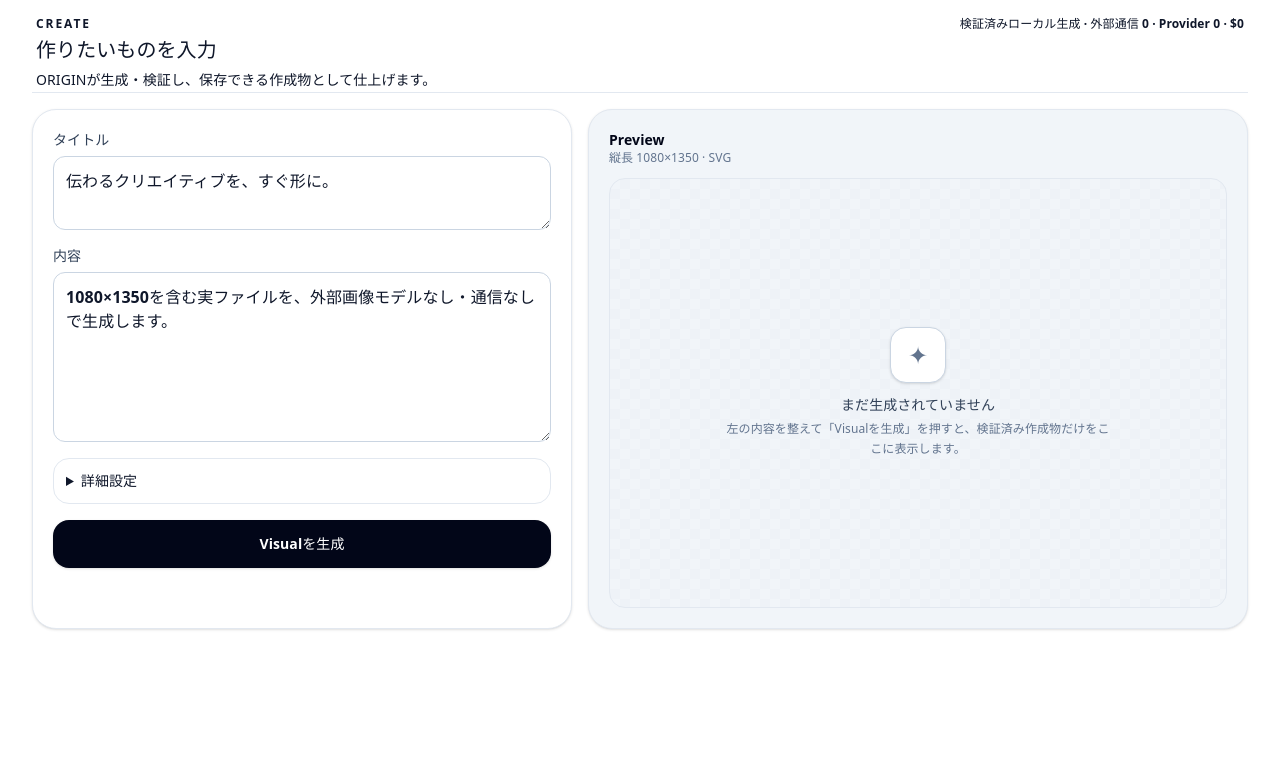
CreativeWorkspaceV15 › keeps verified SVG available if local PNG conversion fails
The width and height of the screenshot is (1280, 762).
Expected: the text "検証済みローカル生成 · 外部通信 0 · Provider 0 · $0" is shown, x1=960 y1=16 x2=1244 y2=32
Step 1. Click the button "Visualを生成" → (302, 544), box x1=53 y1=520 x2=551 y2=568
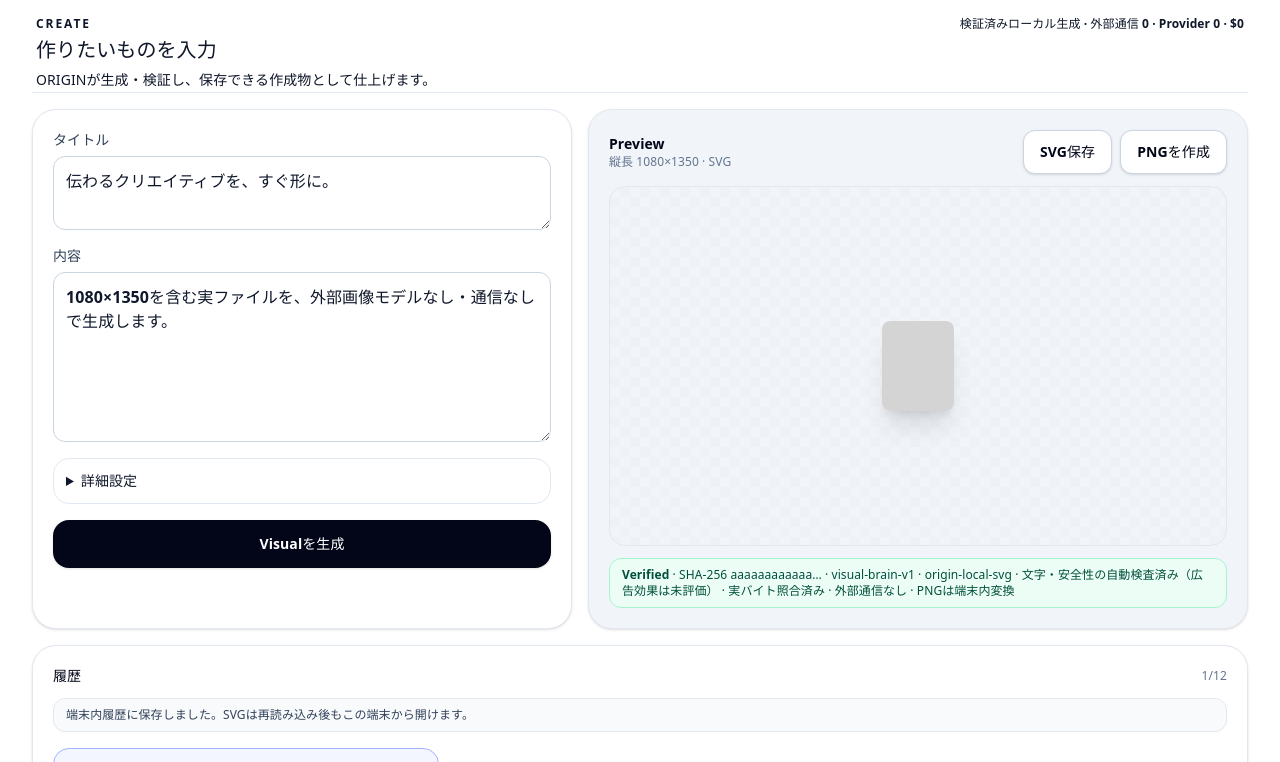
Now the link "SVG保存" is shown, box x1=1023 y1=130 x2=1112 y2=174
Step 2. Click the button "PNGを作成" → (1174, 152), box x1=1120 y1=130 x2=1227 y2=174
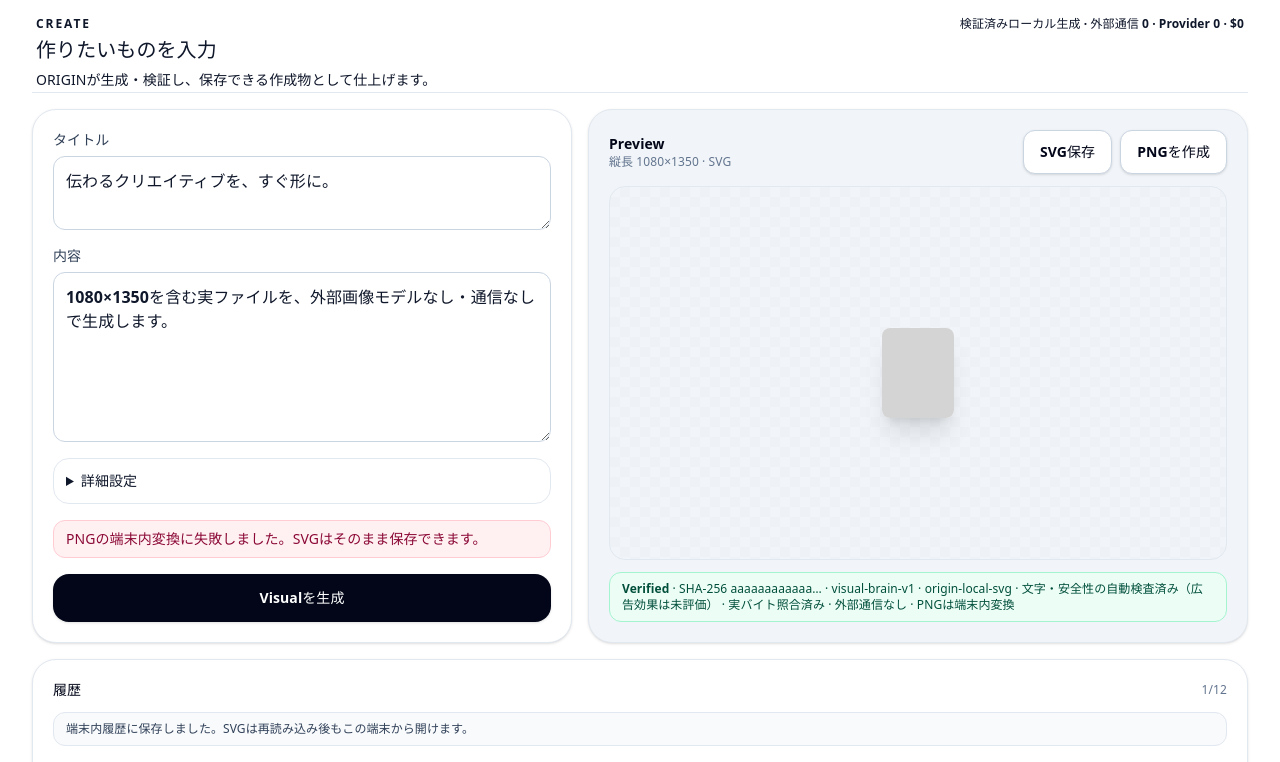
Now the link "SVG保存" is shown, box x1=1023 y1=130 x2=1112 y2=174
Now the text "PNGの端末内変換に失敗しました。SVGはそのまま保存できます。" is shown, box x1=53 y1=520 x2=551 y2=558
